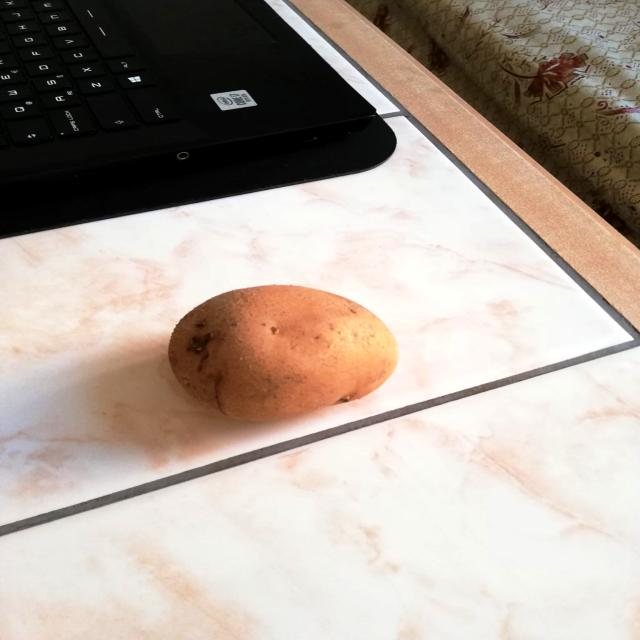potato: (161, 281, 406, 426)
